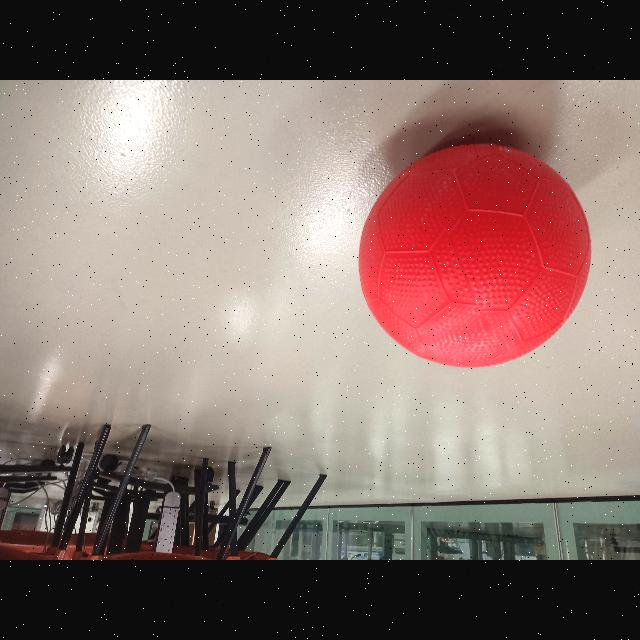R: (357, 142, 598, 370)
